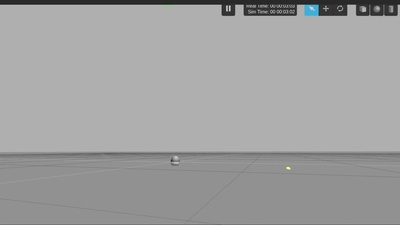mira_robot: (171, 155, 180, 165)
